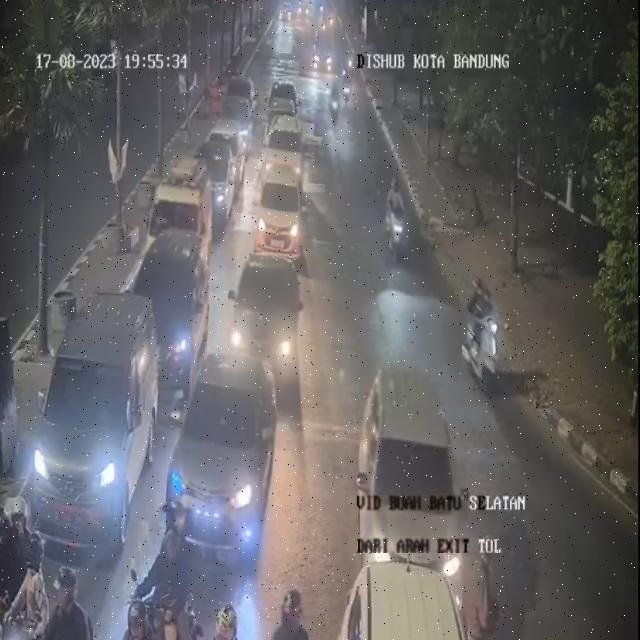cars: (33, 291, 159, 555), (360, 356, 464, 632), (168, 348, 285, 581), (338, 552, 480, 640), (131, 231, 207, 387), (230, 254, 307, 394), (150, 155, 218, 283), (256, 164, 304, 271), (195, 124, 240, 225), (266, 114, 307, 182), (223, 72, 258, 150), (266, 82, 297, 135), (273, 80, 299, 118)
motorcycle: (461, 278, 505, 404), (0, 493, 30, 637), (13, 532, 46, 640), (50, 571, 93, 640), (379, 174, 408, 274), (271, 589, 308, 640), (116, 600, 153, 640), (209, 601, 243, 640), (328, 84, 338, 124)
